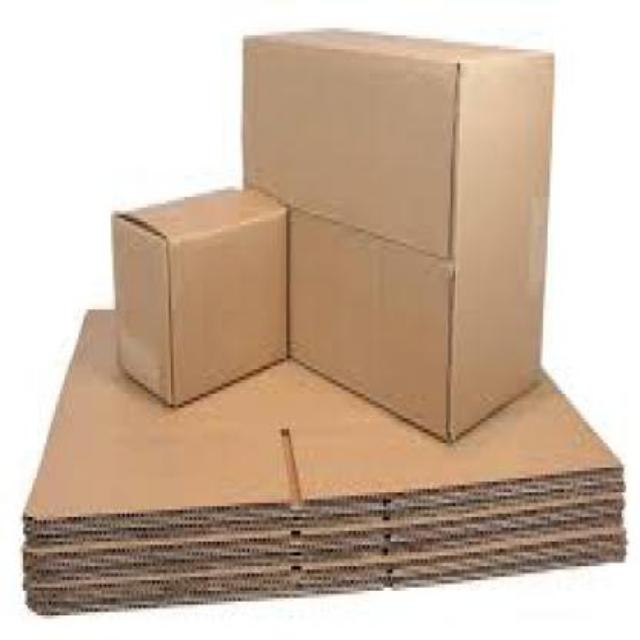cardboard_box: (239, 29, 557, 444), (103, 191, 293, 401)
